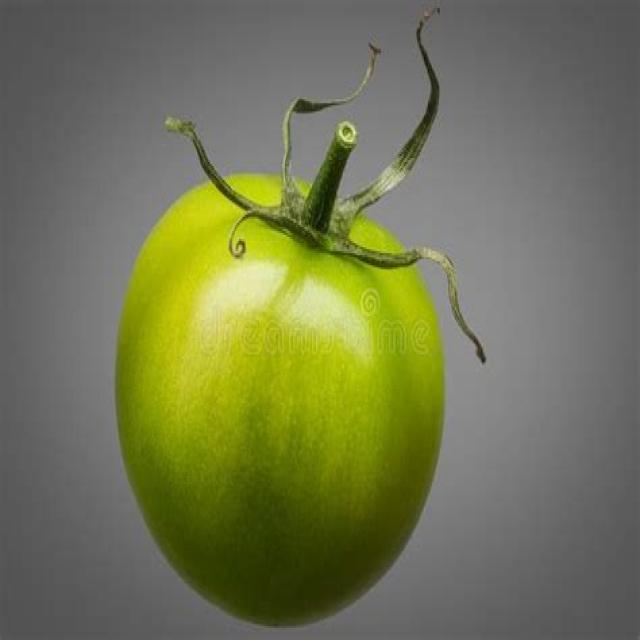Tomato: (112, 125, 484, 631)
